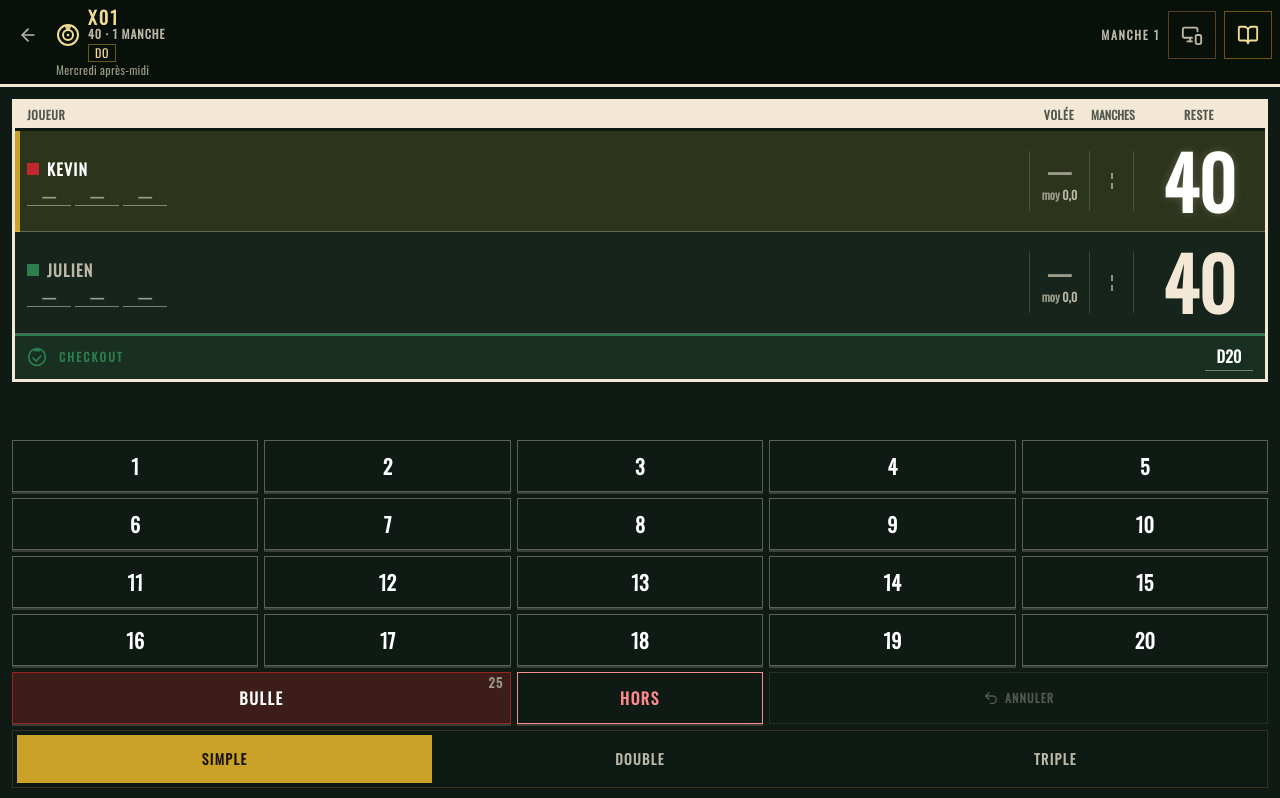
Test: X01 : la phrase à la victoire du match seulement › victoire du match : « Checkout », puis la phrase, un seul énoncé, après Valider
expect the element named "Score restant de Kevin" reads "40": met, box [1163,127,1236,234]
Click the button "Double": (640, 759) [432,735,848,783]
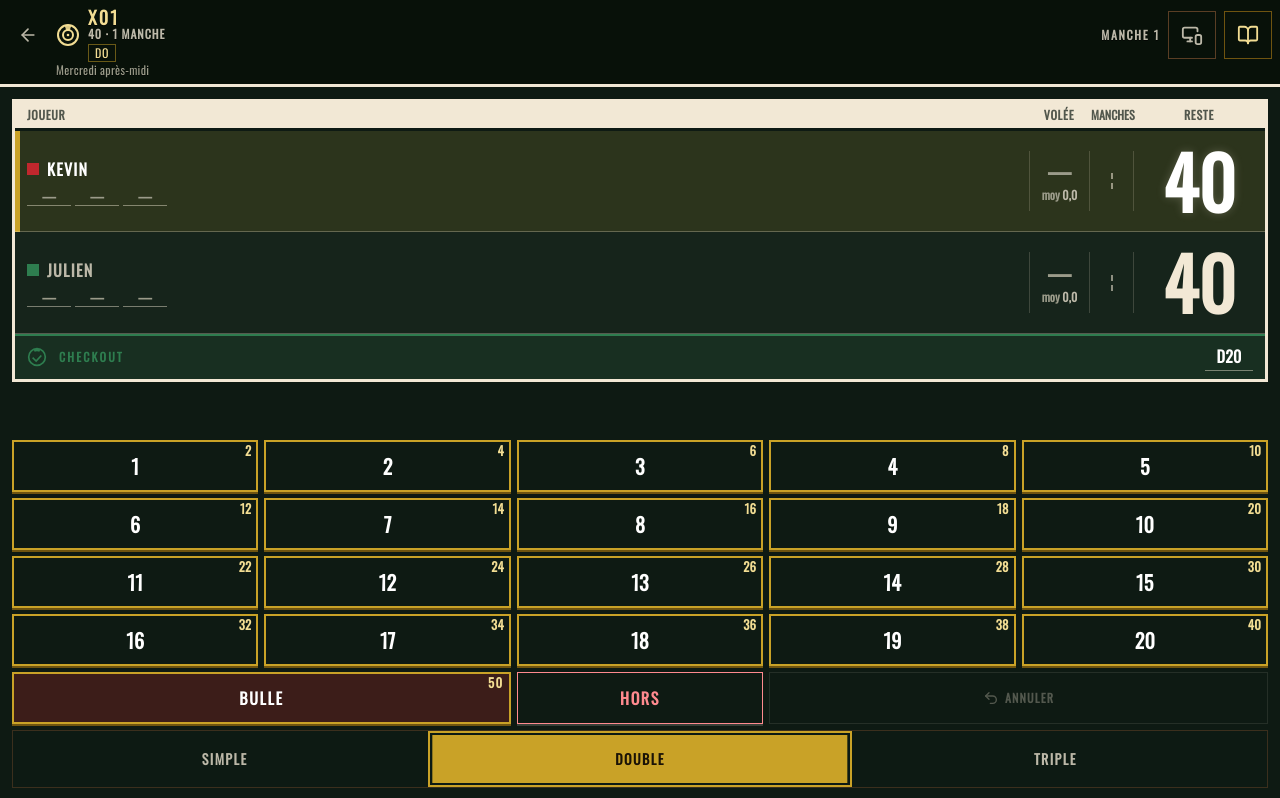
Click the button "40 20": (1145, 640) [1022,614,1268,666]
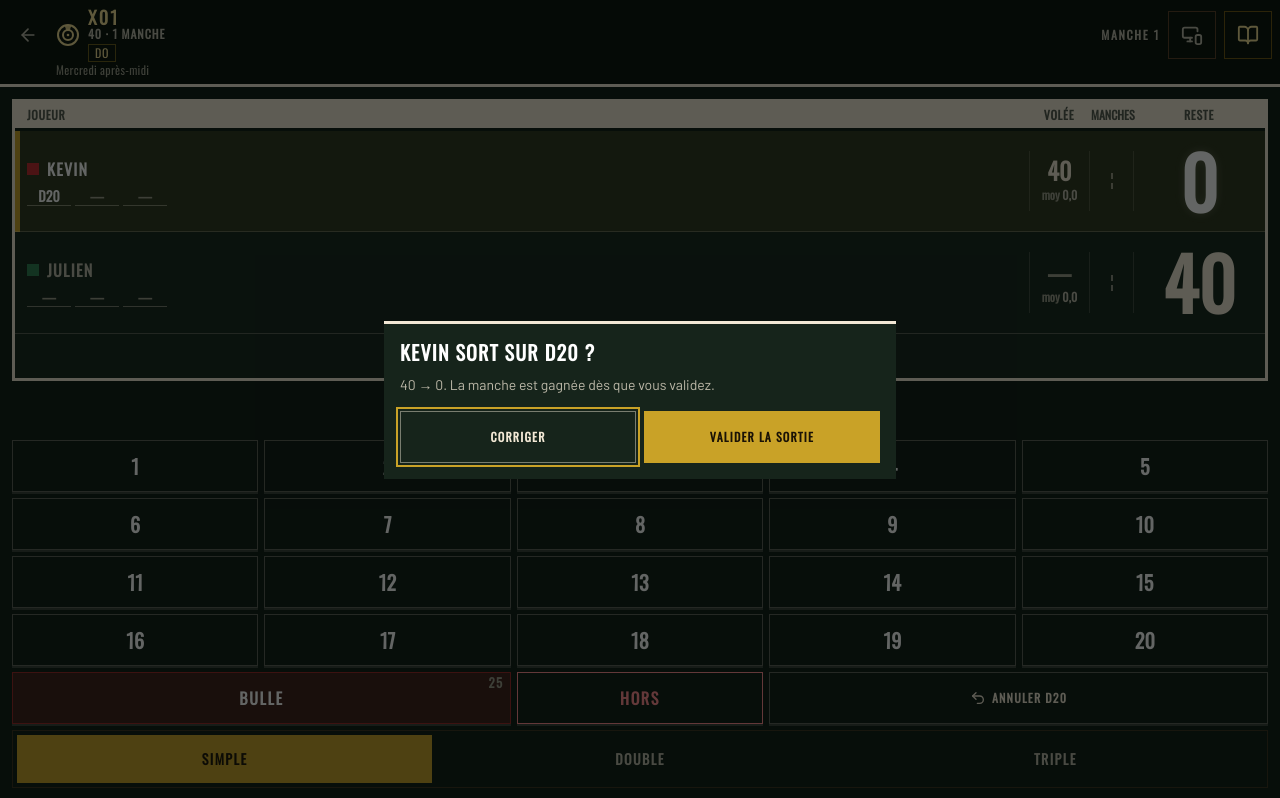
expect the dialog is shown: met, box [384,321,896,479]
Click the button "Valider la sortie": (762, 437) [644,411,880,463]
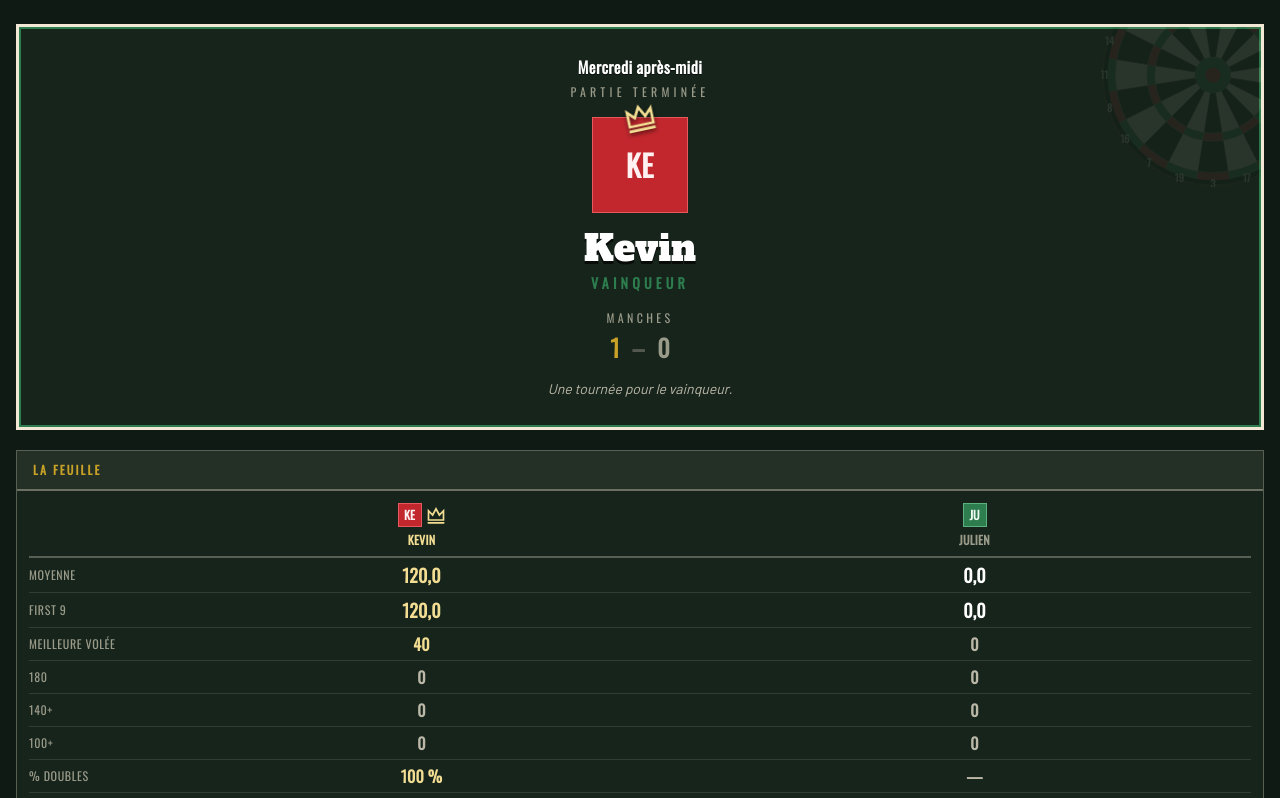
expect the text "Une tournée pour le vainqueur." is shown: met, box [548,379,732,399]
